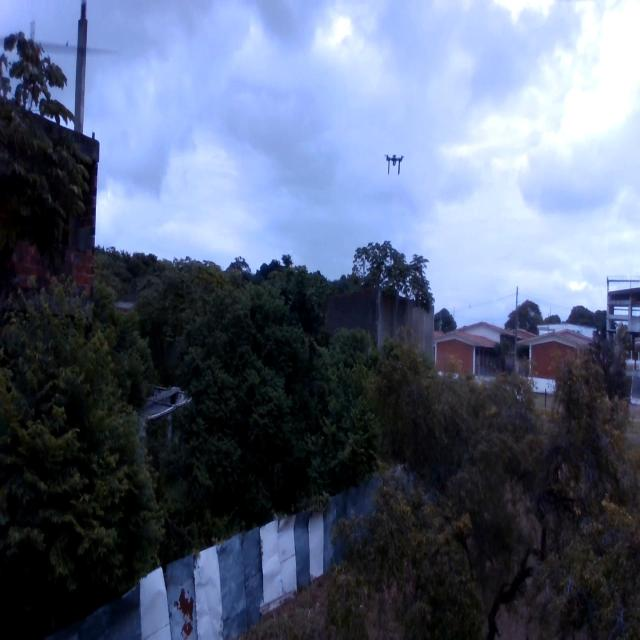-uav-: (381, 144, 407, 182)
